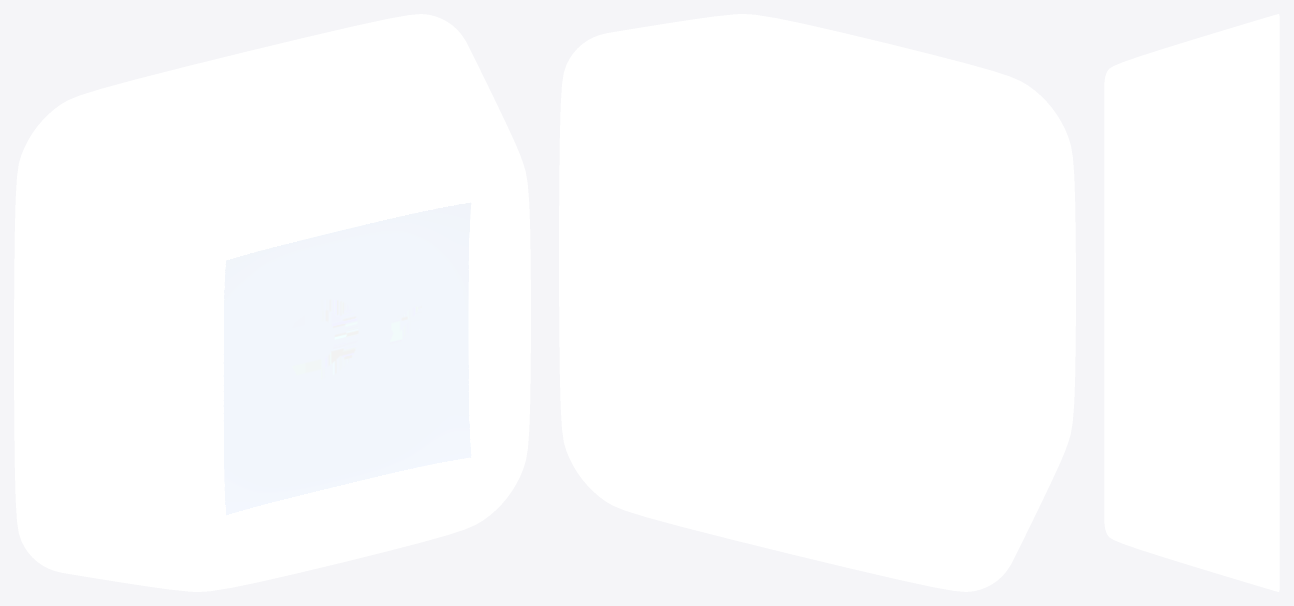
Rendered from button5.glb.
The picture shows the model from 3 angles, left to right: view 1: azimuth 30°, elevation 25°; view 2: azimuth 150°, elevation 25°; view 3: azimuth 270°, elevation 25°; orthographic projection. The views are drawn at different scales.
Parts seen in each view (by area): view 1: Cube.007; view 2: Cube.007; view 3: Cube.007.
Part boxes in pixels (box(x1,y1,x2,y2)): Cube.007: box(14, 14, 530, 591); Cube.007: box(559, 14, 1075, 591); Cube.007: box(1104, 14, 1279, 591).
Bounding box in the file's own units: 0.2392 × 0.2392 × 0.0881.
Materials: 1 (1 with a texture image).
